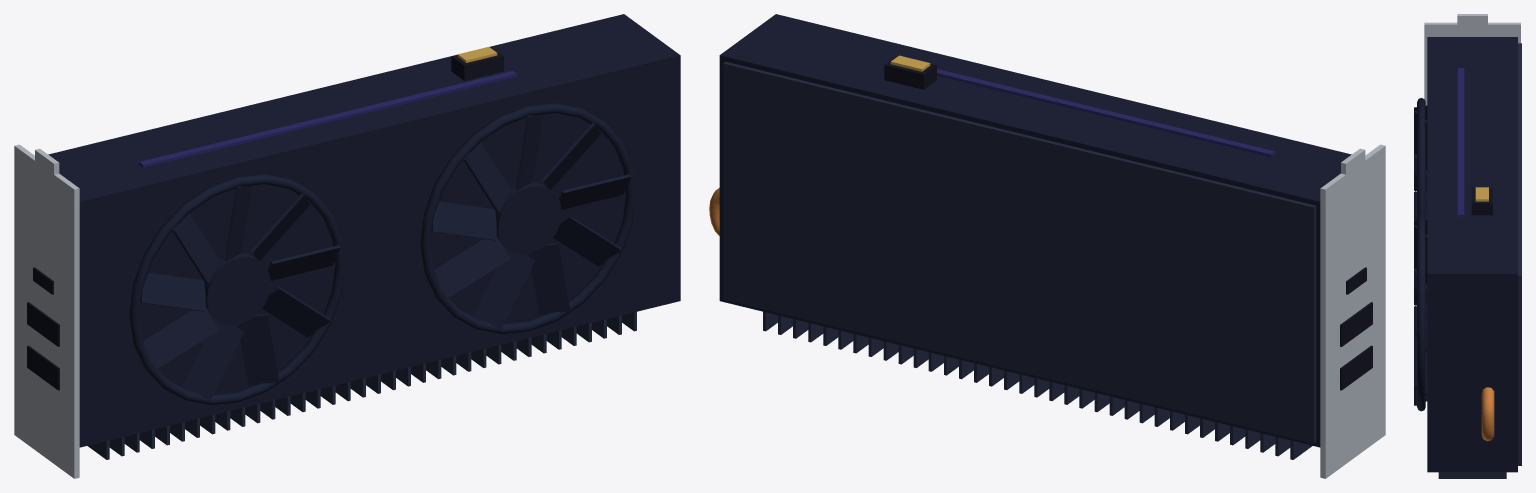
File: gpu-highend.glb
The picture shows the model from 3 angles, left to right: view 1: azimuth 30°, elevation 25°; view 2: azimuth 150°, elevation 25°; view 3: azimuth 270°, elevation 25°; orthographic projection. The views are drawn at different scales.
Visible parts, largest first — view 1: shroud, blades_2, blades_1, pcie_bracket, fin_comb, fan_ring_1, fan_ring, side_rgb_strip, io_cutouts, power_connector; view 2: backplate, shroud, pcie_bracket, fin_comb, side_rgb_strip, io_cutouts, power_connector; view 3: shroud, fan_ring_1, backplate, pcie_bracket, side_rgb_strip, blades_2, fan_ring, heatpipes, blades_1, fin_comb, power_connector, bracket_tab (+1 smaller).
Part boxes in pixels (x1,y1,x2,y2): shroud: (48, 14, 680, 447); blades_2: (431, 114, 631, 329); blades_1: (140, 185, 340, 400); pcie_bracket: (14, 144, 79, 478); fin_comb: (87, 311, 636, 459); fan_ring_1: (420, 103, 636, 334); fan_ring: (129, 174, 345, 405); side_rgb_strip: (139, 71, 516, 167); io_cutouts: (27, 267, 59, 390); power_connector: (451, 46, 503, 80); backplate: (723, 61, 1316, 443); shroud: (719, 14, 1351, 447); pcie_bracket: (1320, 144, 1385, 478); fin_comb: (763, 311, 1312, 459); side_rgb_strip: (937, 69, 1275, 157); io_cutouts: (1340, 267, 1372, 390); power_connector: (884, 55, 936, 89); shroud: (1427, 37, 1517, 472); fan_ring_1: (1417, 212, 1425, 411); backplate: (1518, 43, 1521, 465); pcie_bracket: (1424, 22, 1520, 105); side_rgb_strip: (1457, 68, 1464, 217); blades_2: (1414, 220, 1427, 405); fan_ring: (1417, 98, 1425, 215); heatpipes: (1481, 387, 1494, 440); blades_1: (1414, 105, 1427, 221); fin_comb: (1438, 472, 1506, 478); power_connector: (1471, 187, 1492, 215); bracket_tab: (1457, 14, 1487, 24).
Size of the model in its own units: 307 by 138 by 55.83.
